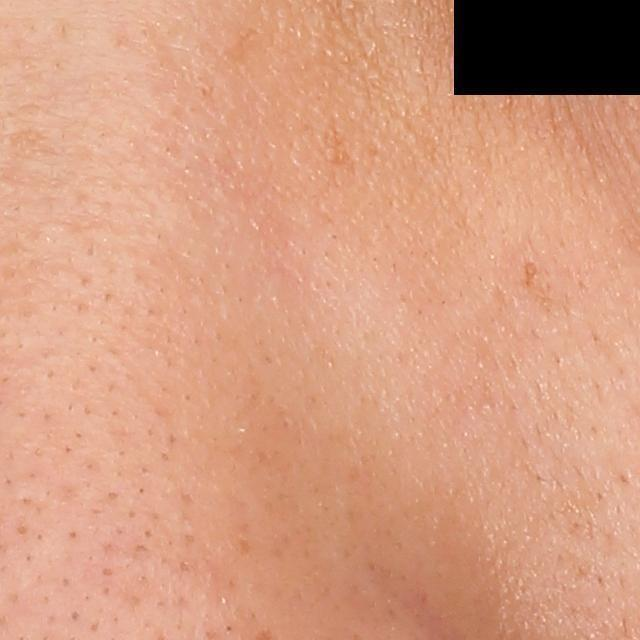melasma: (323, 112, 362, 185)
